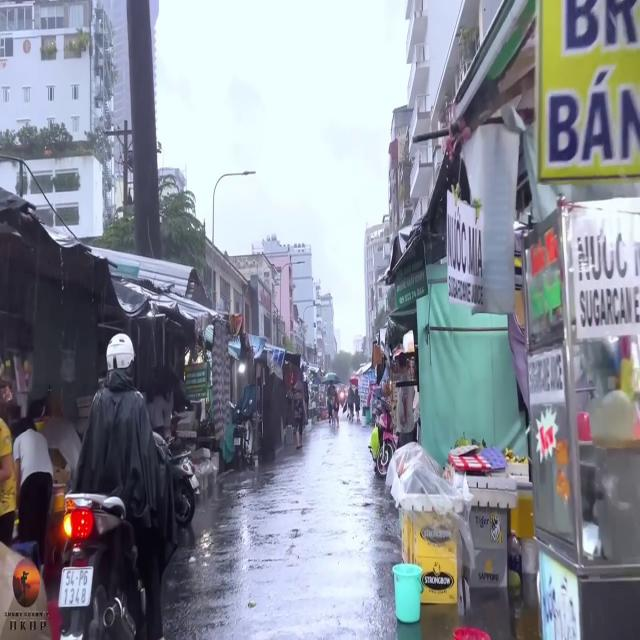bien_trang: (61, 562, 93, 607)
